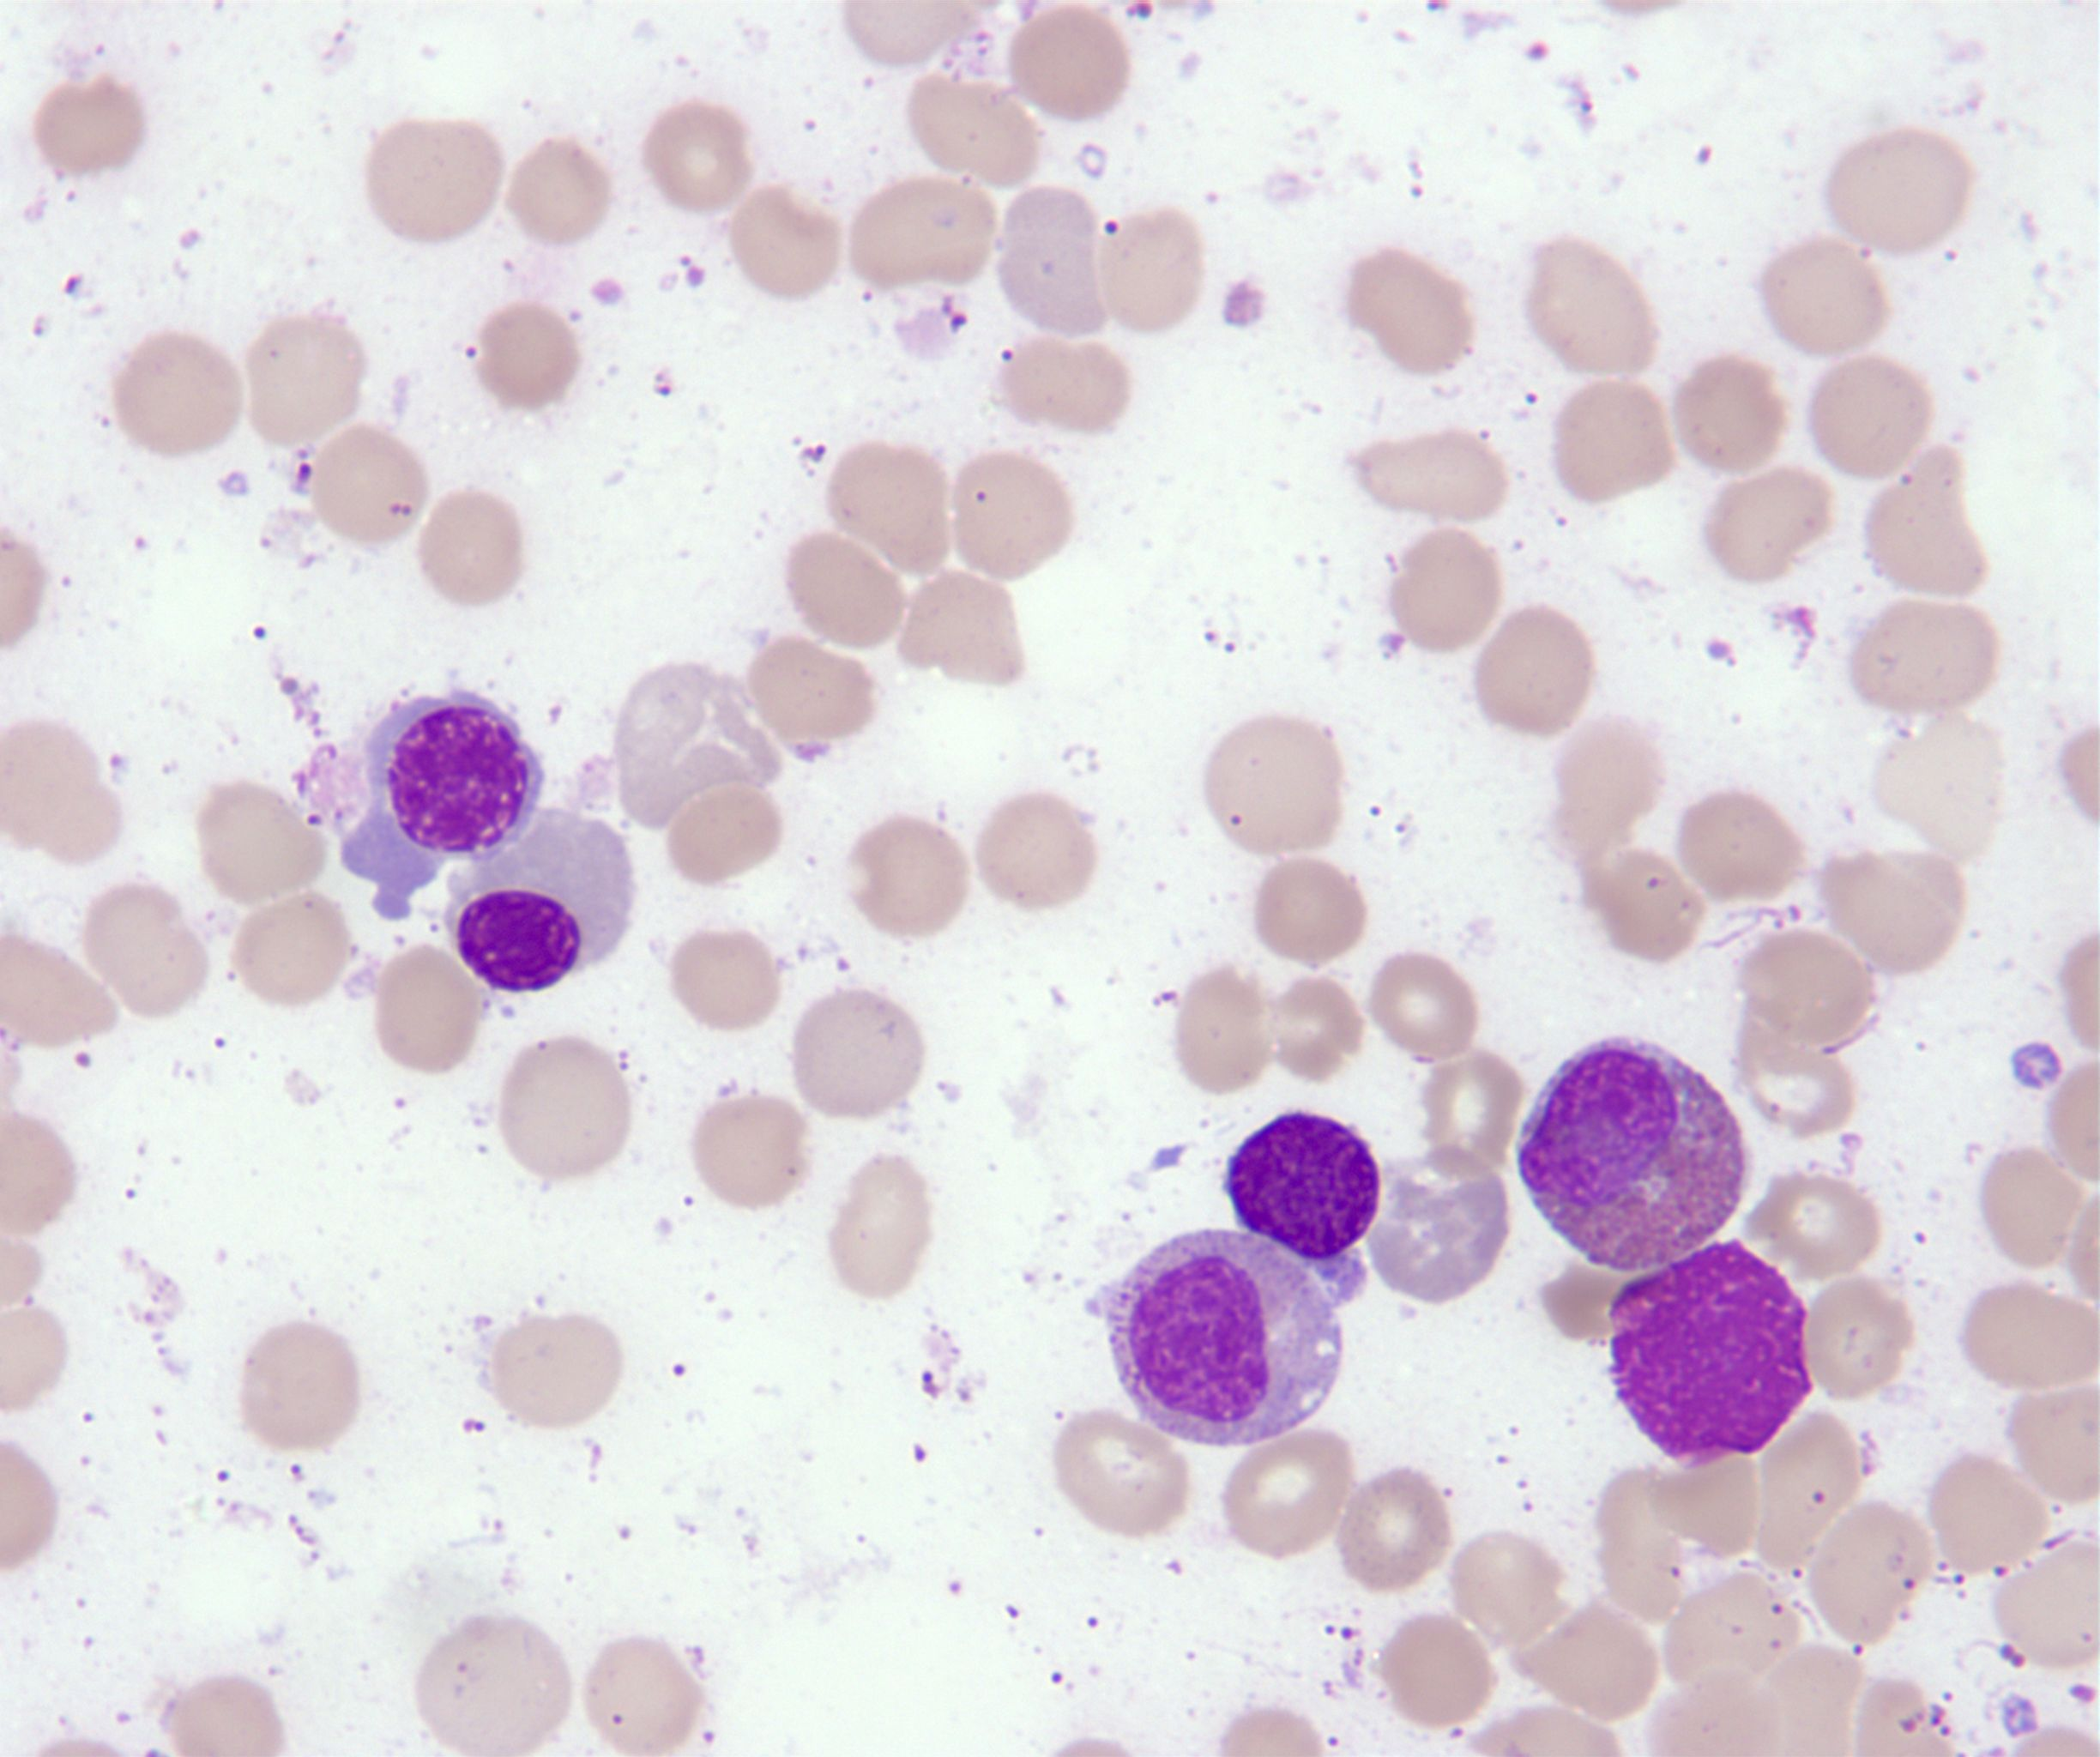23: (389, 703, 537, 857)
24: (452, 890, 602, 1002)
3: (1104, 1241, 1353, 1446)
32: (1230, 1101, 1376, 1258)
E3: (1521, 1036, 1755, 1267)
